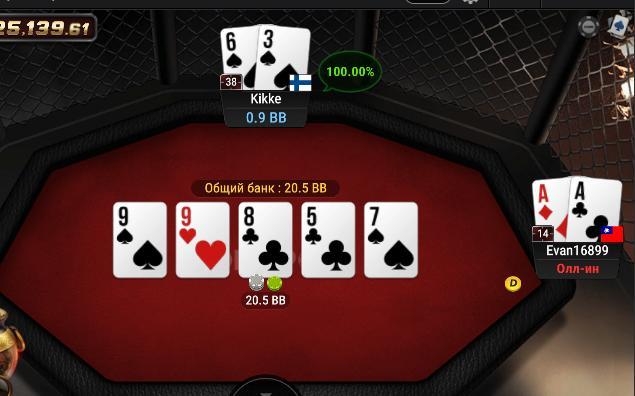3s: (257, 23, 311, 89)
5c: (302, 203, 355, 278)
6s: (218, 26, 257, 93)
7s: (365, 203, 417, 277)
8c: (239, 202, 292, 279)
9h: (176, 202, 230, 279)
9s: (114, 202, 165, 278)
Ac: (569, 176, 624, 243)
Ad: (531, 180, 569, 244)
